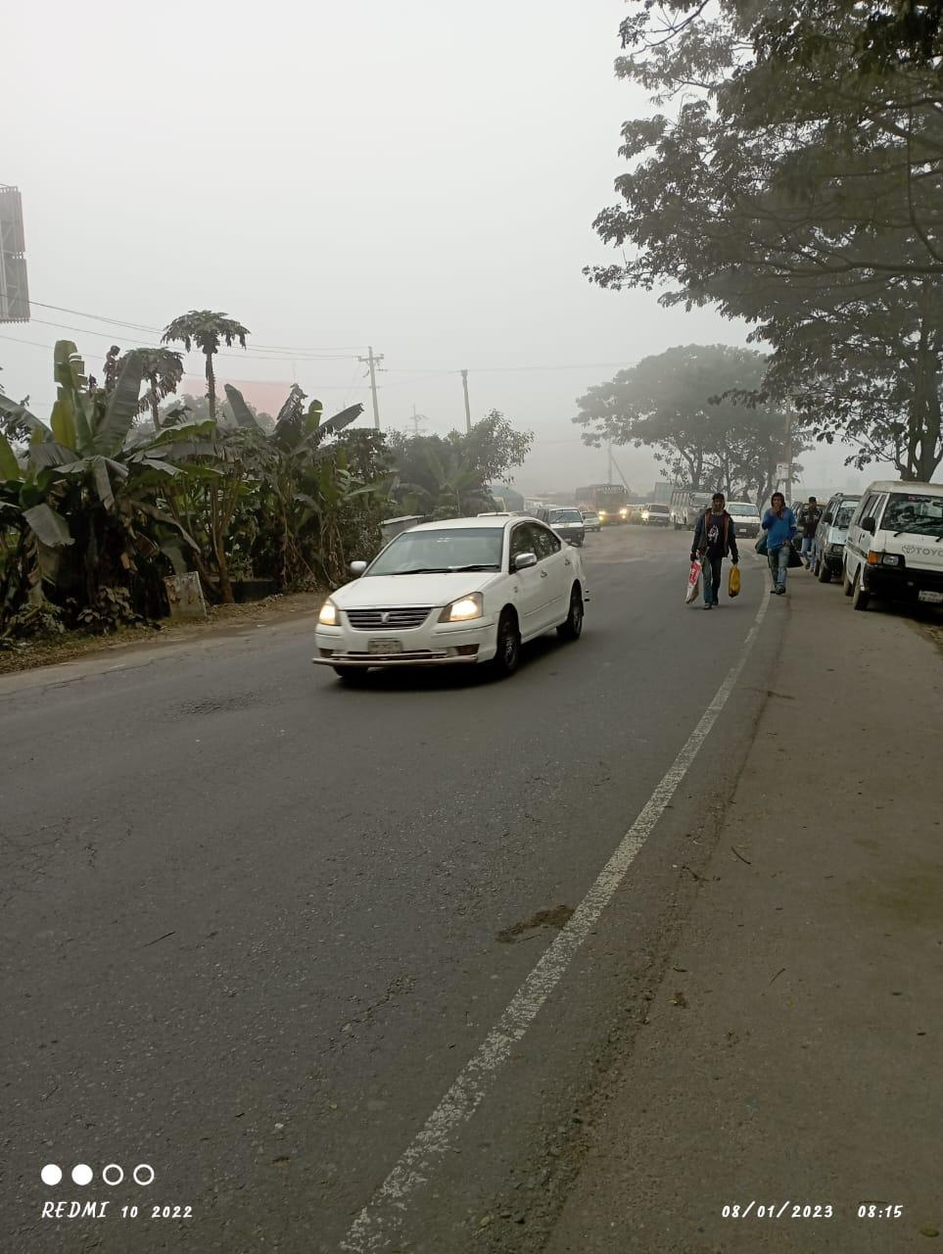Bus: (580, 477, 639, 529)
Car: (302, 509, 592, 674), (836, 475, 943, 624), (722, 490, 765, 544)
